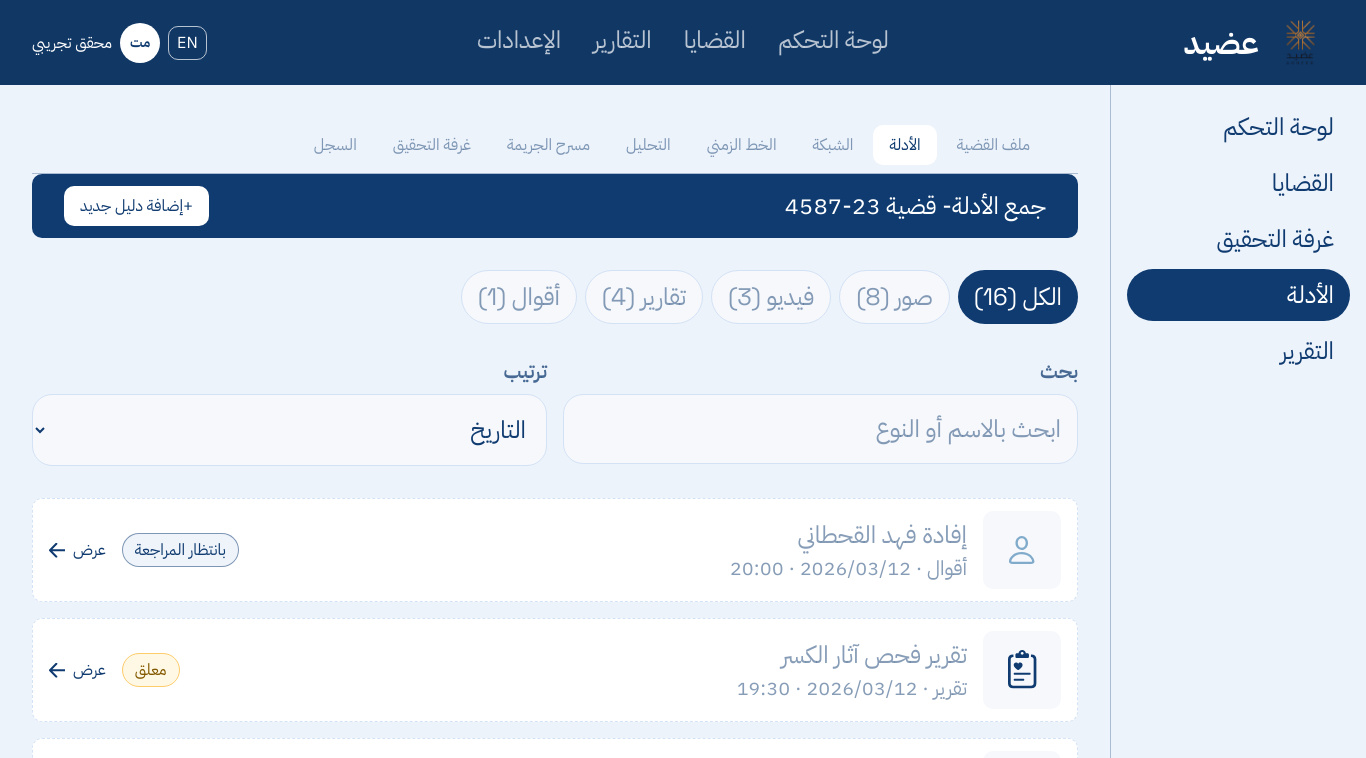
Scenario: evidence list › narrows the list from the filter pills and shows counts from the data
The width and height of the screenshot is (1366, 758).
Check: the heading "جمع الأدلة- قضية 23-4587" is shown, box [785,188,1046,224]
Check: the button "فيديو (3)" is shown, box [711,270,831,324]
Step 1. Click the button "صور (8)" → point(895, 297), box [839,270,950,324]
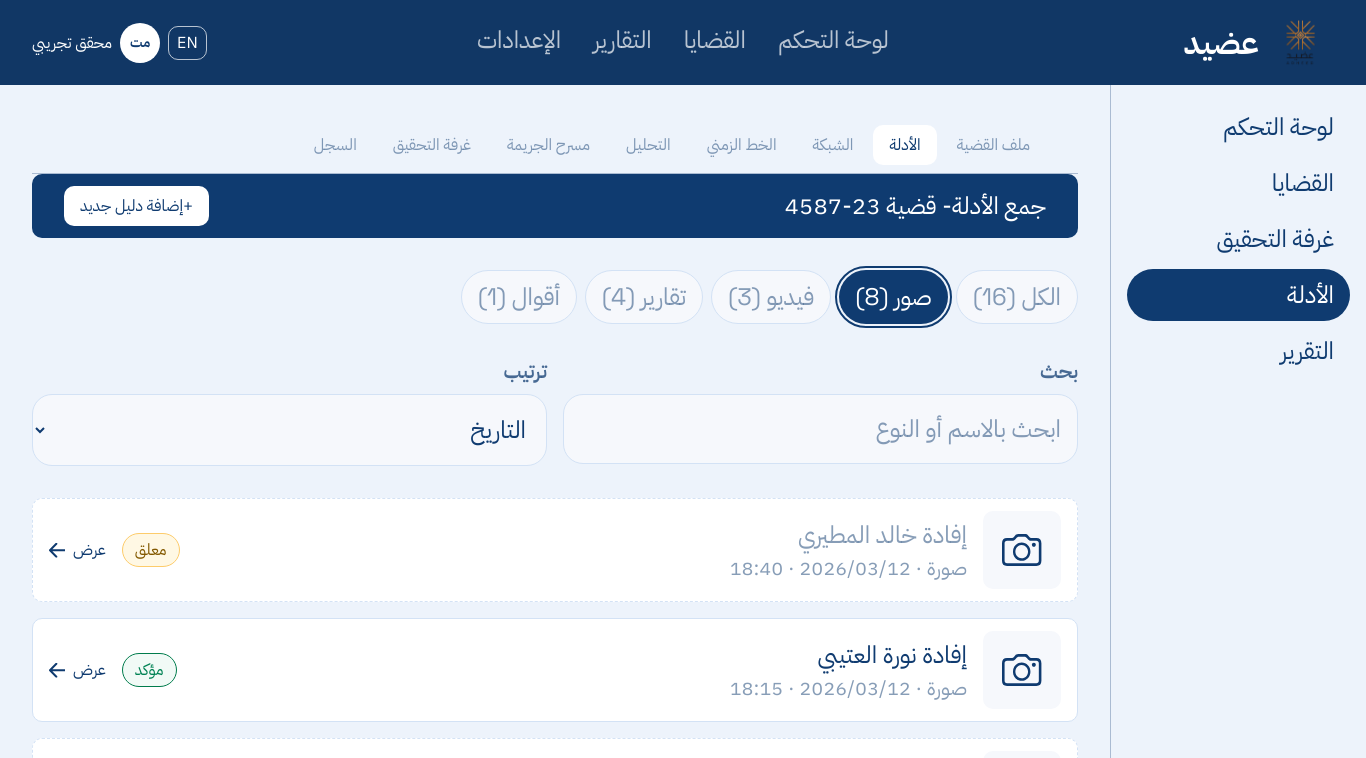
Check: the text "تقرير فحص آثار الكسر" is gone
